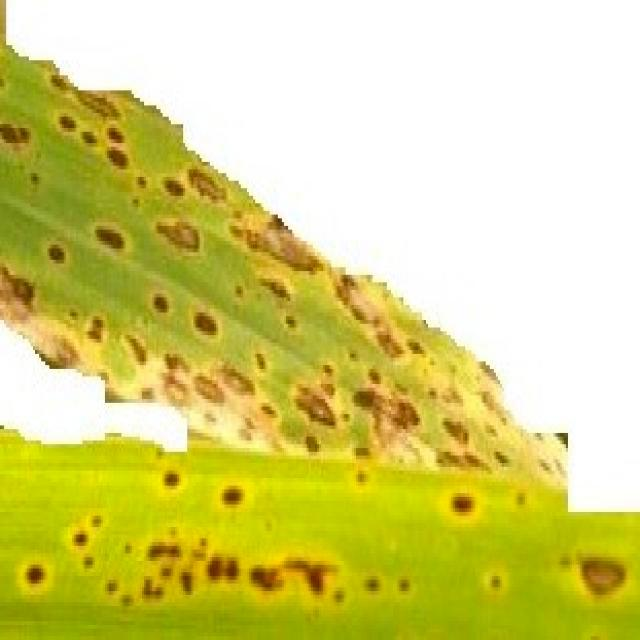Brownspot: (581, 557, 625, 595), (295, 386, 335, 425), (156, 219, 199, 252), (188, 168, 225, 201), (194, 374, 224, 403), (95, 226, 124, 250), (194, 311, 217, 335), (107, 147, 127, 168), (24, 567, 43, 586), (163, 178, 183, 196), (148, 296, 167, 314), (454, 496, 472, 514), (224, 487, 242, 505), (162, 470, 180, 488), (46, 247, 64, 265), (59, 112, 77, 130), (106, 123, 124, 141)
